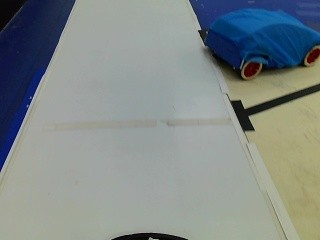car: (198, 8, 318, 79)
